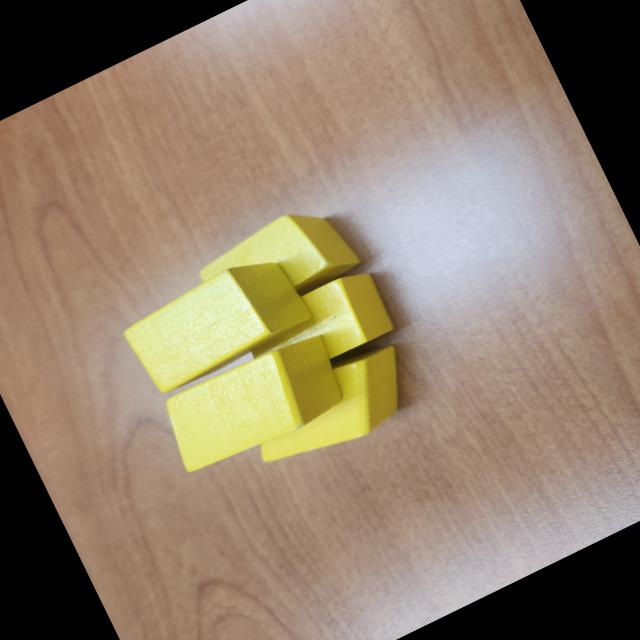yellow: (148, 324, 354, 484), (229, 320, 429, 484), (115, 242, 318, 401), (190, 192, 365, 333), (236, 262, 398, 390)
